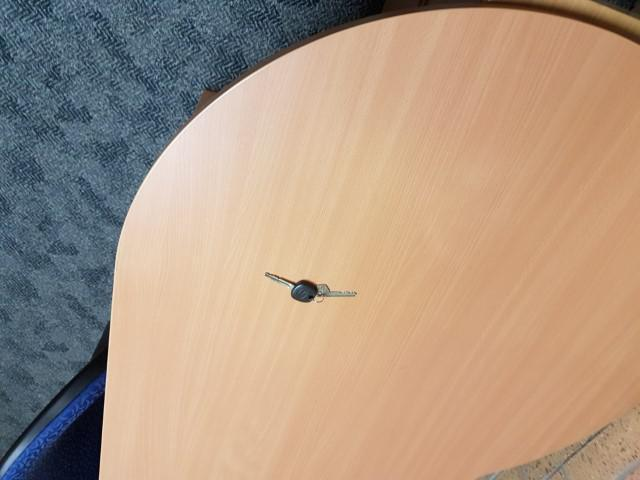key: (264, 272, 317, 303)
